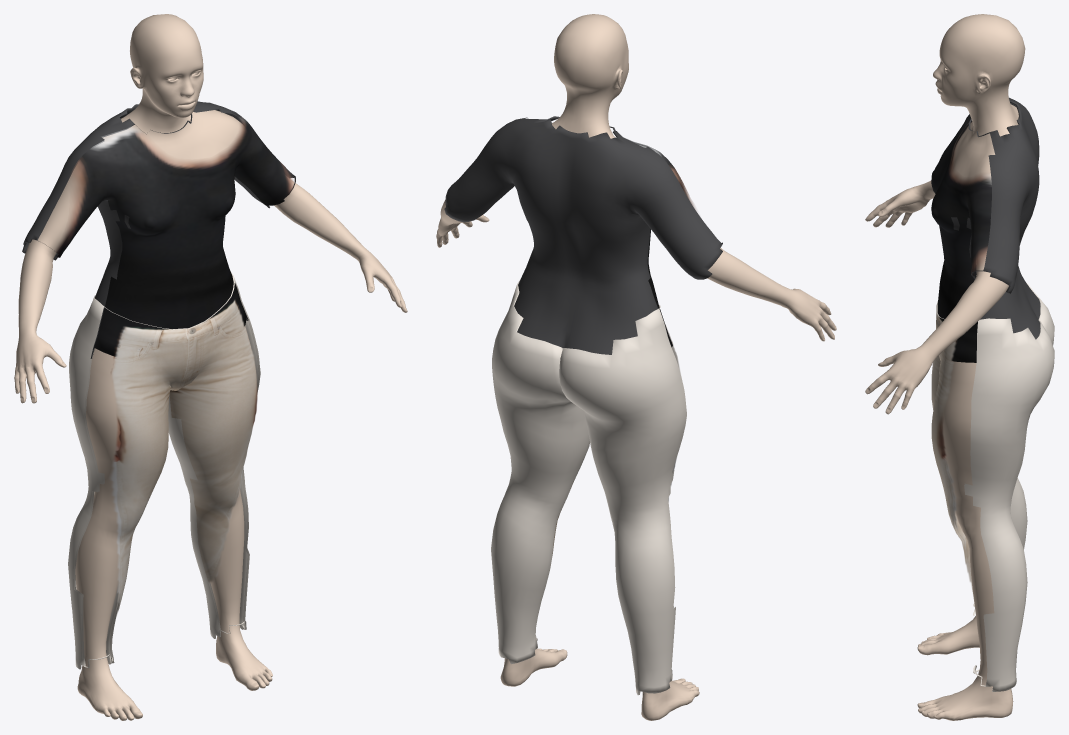
File: avatar_f30ff9f55146.glb
3 views of the same model, side by side, from view 1: azimuth 30°, elevation 25°; view 2: azimuth 150°, elevation 25°; view 3: azimuth 270°, elevation 25° (orthographic).
Visible parts, largest first — view 1: Human_gen, garment_trousers, garment_tshirt; view 2: garment_trousers, garment_tshirt, Human_gen; view 3: Human_gen, garment_trousers, garment_tshirt.
Part boxes in pixels (box(x1,y1,x2,y2)): Human_gen: box(14, 14, 407, 720); garment_trousers: box(68, 272, 260, 669); garment_tshirt: box(22, 101, 295, 358); garment_trousers: box(491, 279, 686, 695); garment_tshirt: box(444, 116, 722, 354); Human_gen: box(436, 14, 836, 720); Human_gen: box(865, 14, 1025, 720); garment_trousers: box(931, 282, 1054, 691); garment_tshirt: box(931, 97, 1040, 362).
Bounding box in the file's own units: 1.03 × 1.7 × 0.439.
5 materials, 2 textured.
